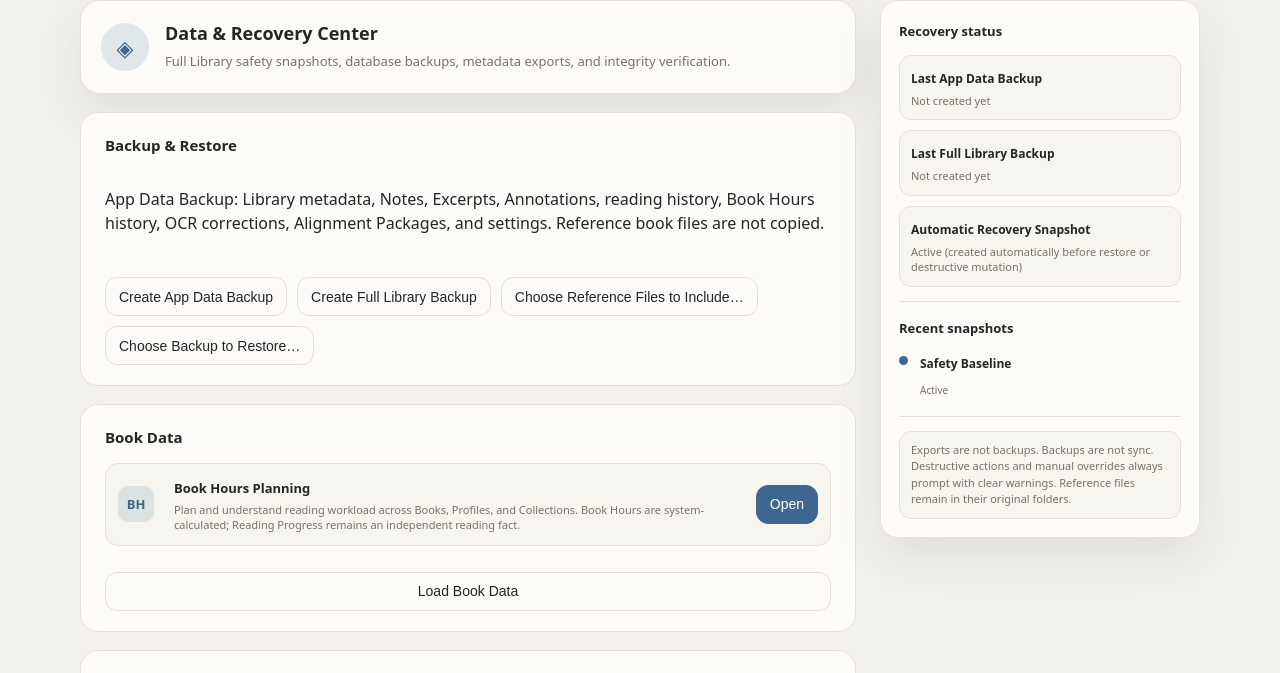
it: DataRecovery › previewing a complete archive enables Restore
Click the button "Choose Backup to Restore…".
click(210, 346)  # box [105,326,314,365]
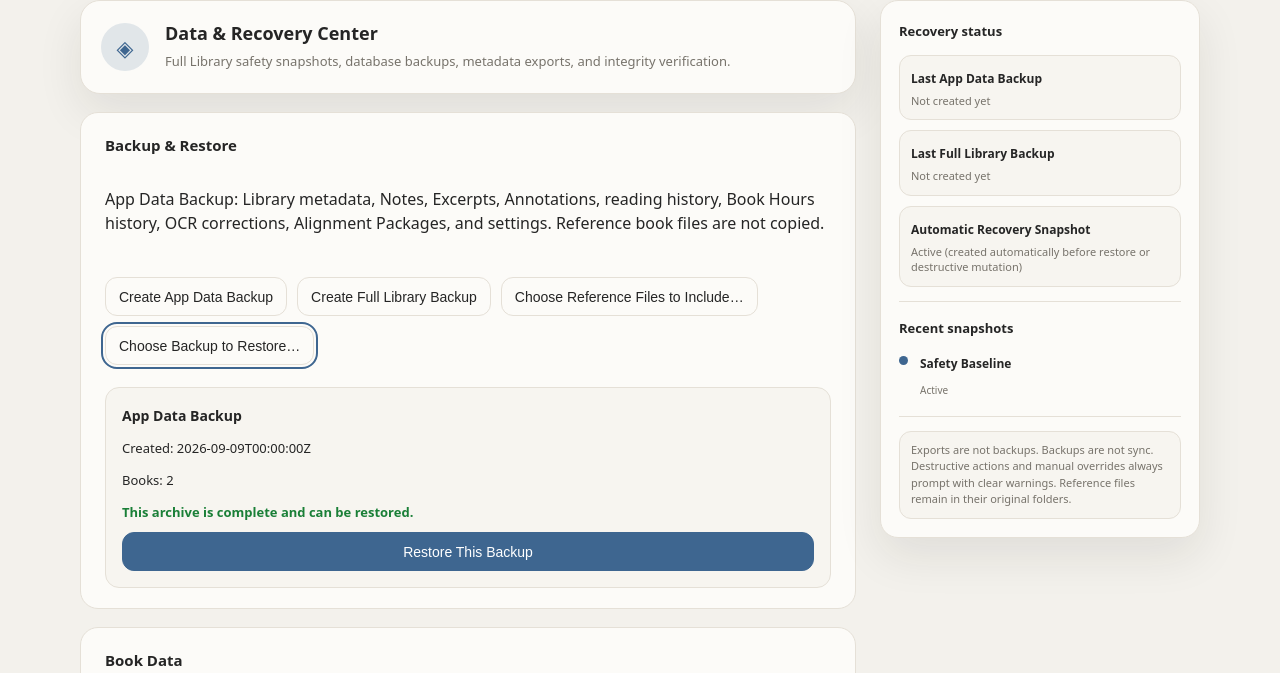
Result: the text "This archive is complete and can be restored." is shown at [122,503,413,521]
Result: the button "Restore This Backup" is enabled at [122,532,814,571]
